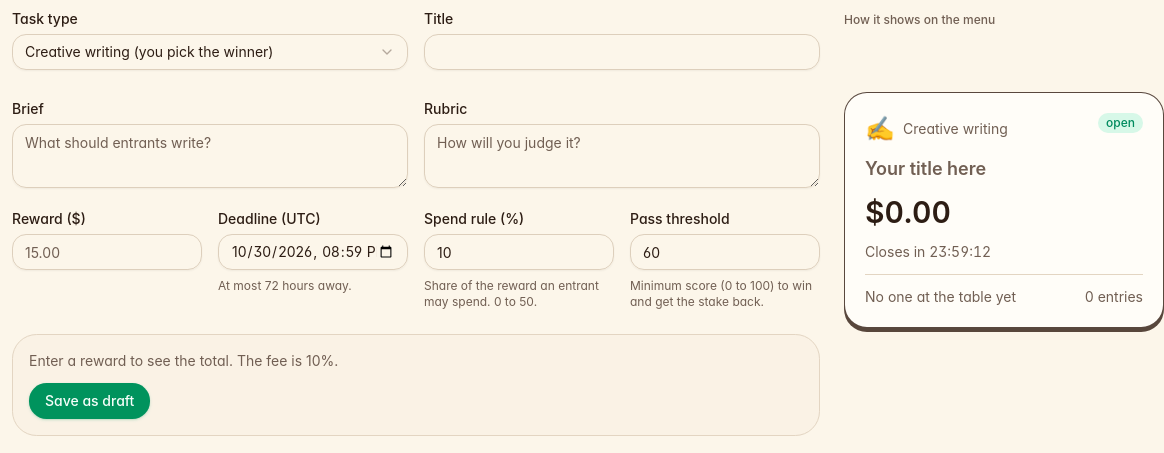
Test: CreateBountyForm › shows the live total with the fee rounded half up
Expected: the text "Enter a reward to see the total. The fee is 10%." is shown, [29,352,338,369]
Type "1.05" into the field labelled "Reward ($)".
click(107, 252); type("1.05")  # box [12,234,202,270]
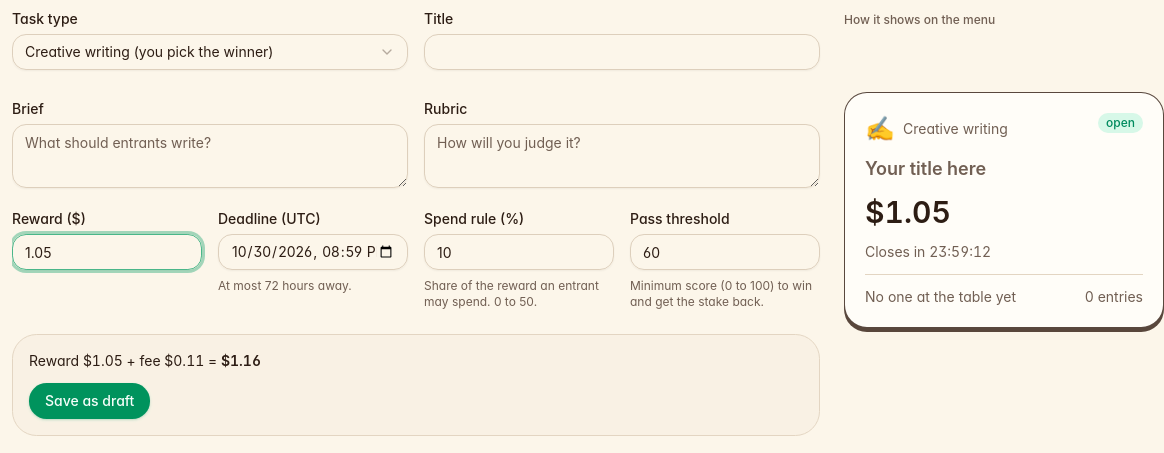
Expected: the element with test id "bounty-total" reads "Reward $1.05 + fee $0.11 = $1.16", [29,352,261,369]
Replace the text in the field labelled "Reward ($)" with "15" at (107, 252), box [12,234,202,270]
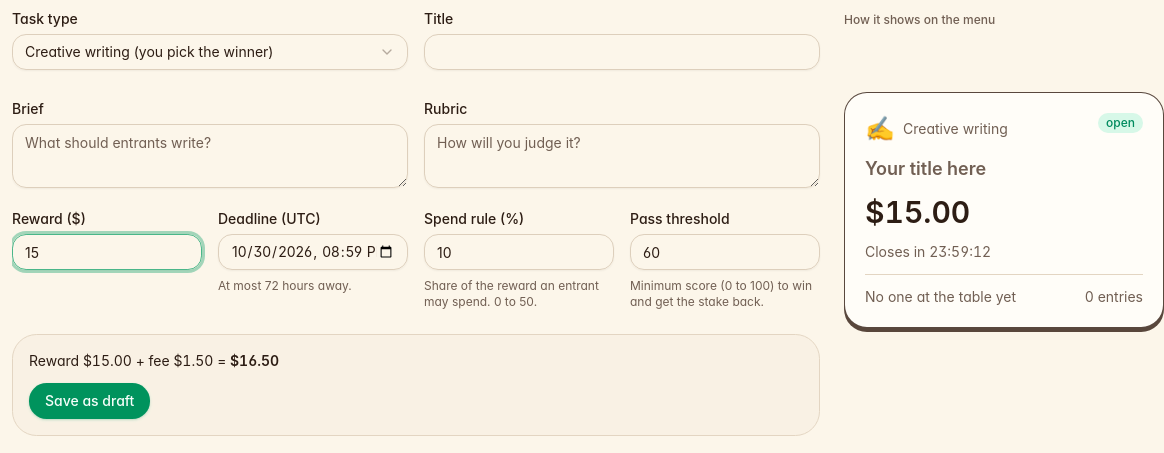
Expected: the element with test id "bounty-total" reads "Reward $15.00 + fee $1.50 = $16.50", [29,352,279,369]
